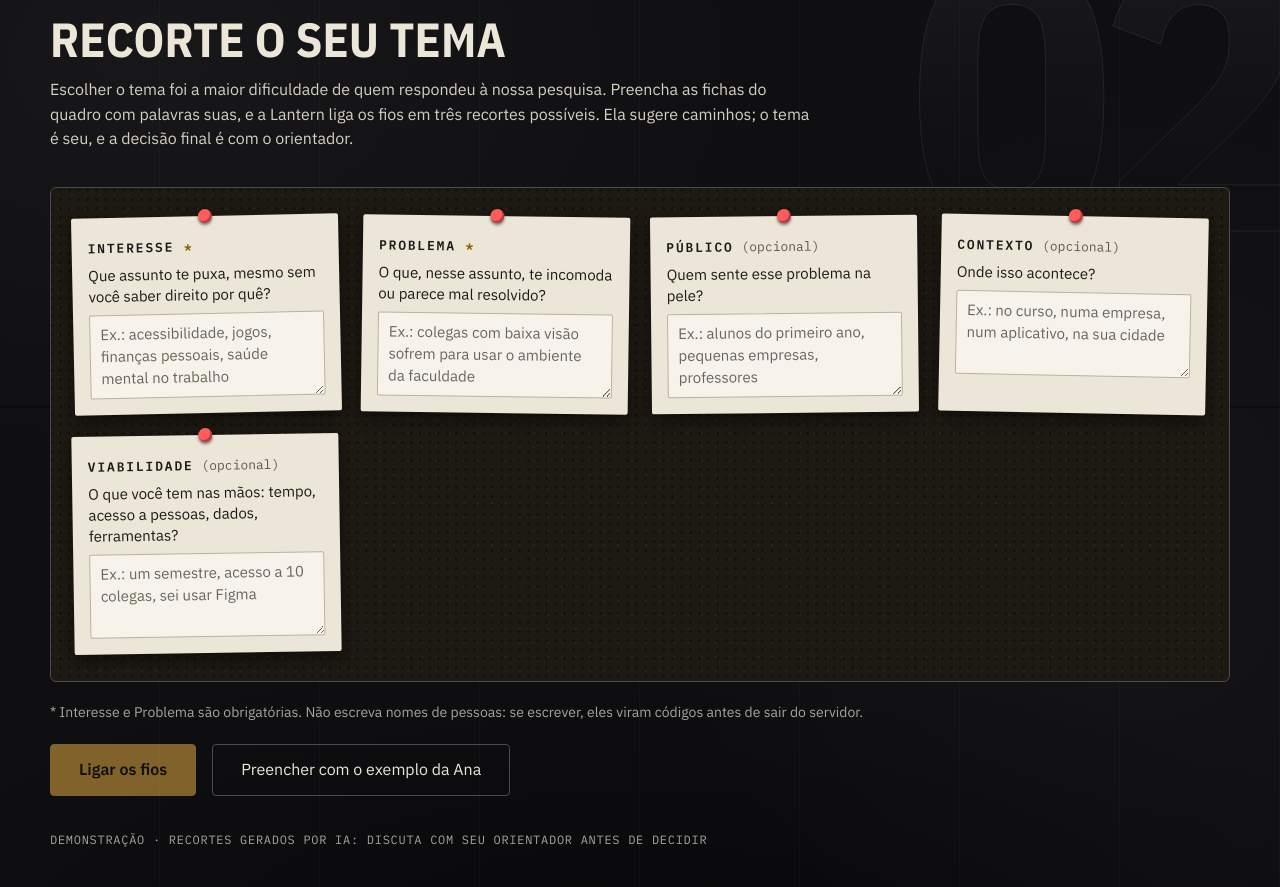
Test: Sala de Recorte › erro da IA vira alerta e as fichas continuam preenchidas
The image size is (1280, 887).
(page scrolled)
Step 1. Click the button "Preencher com o exemplo da Ana" → (361, 770), box [212,744,510,796]
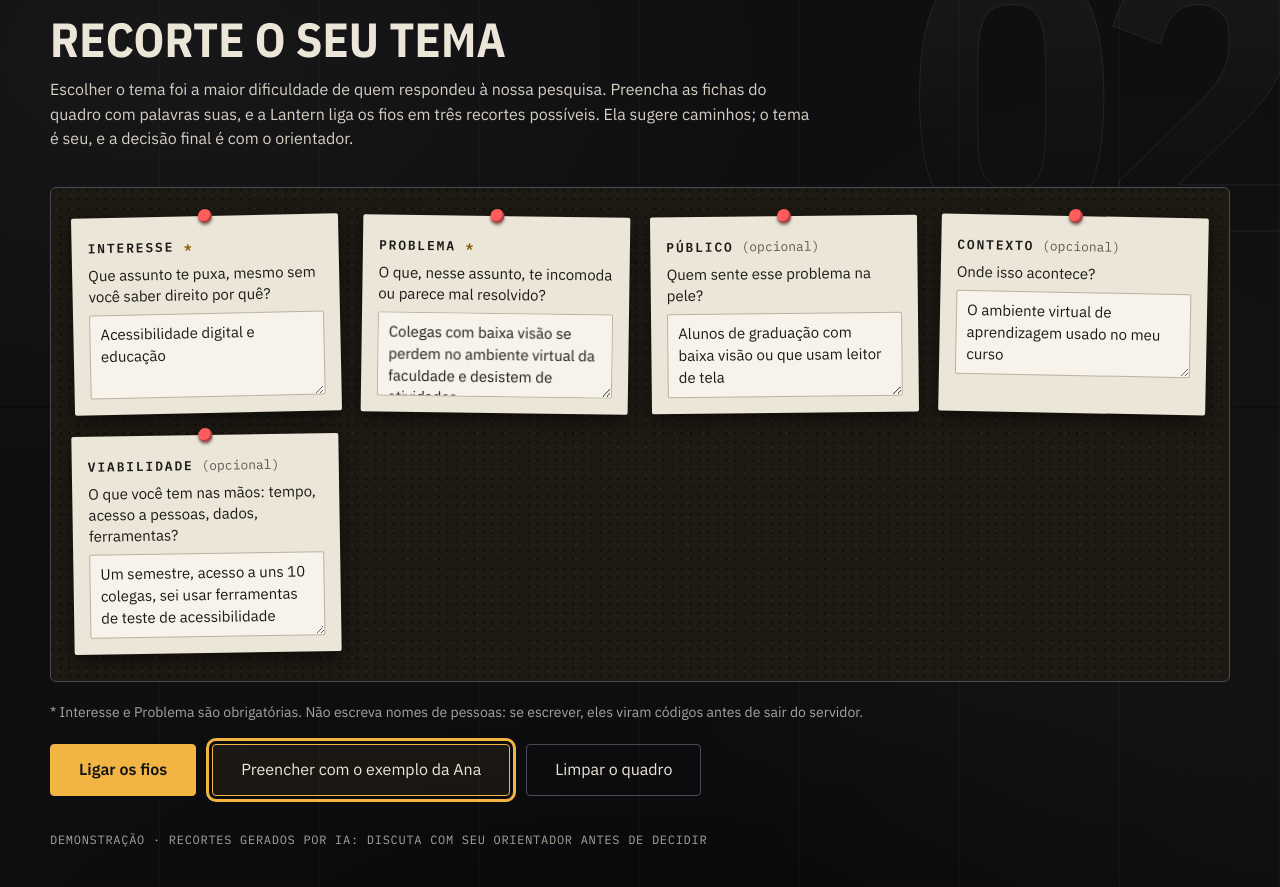
Step 2. Click the button "Ligar os fios" → (123, 770), box [50,744,196,796]
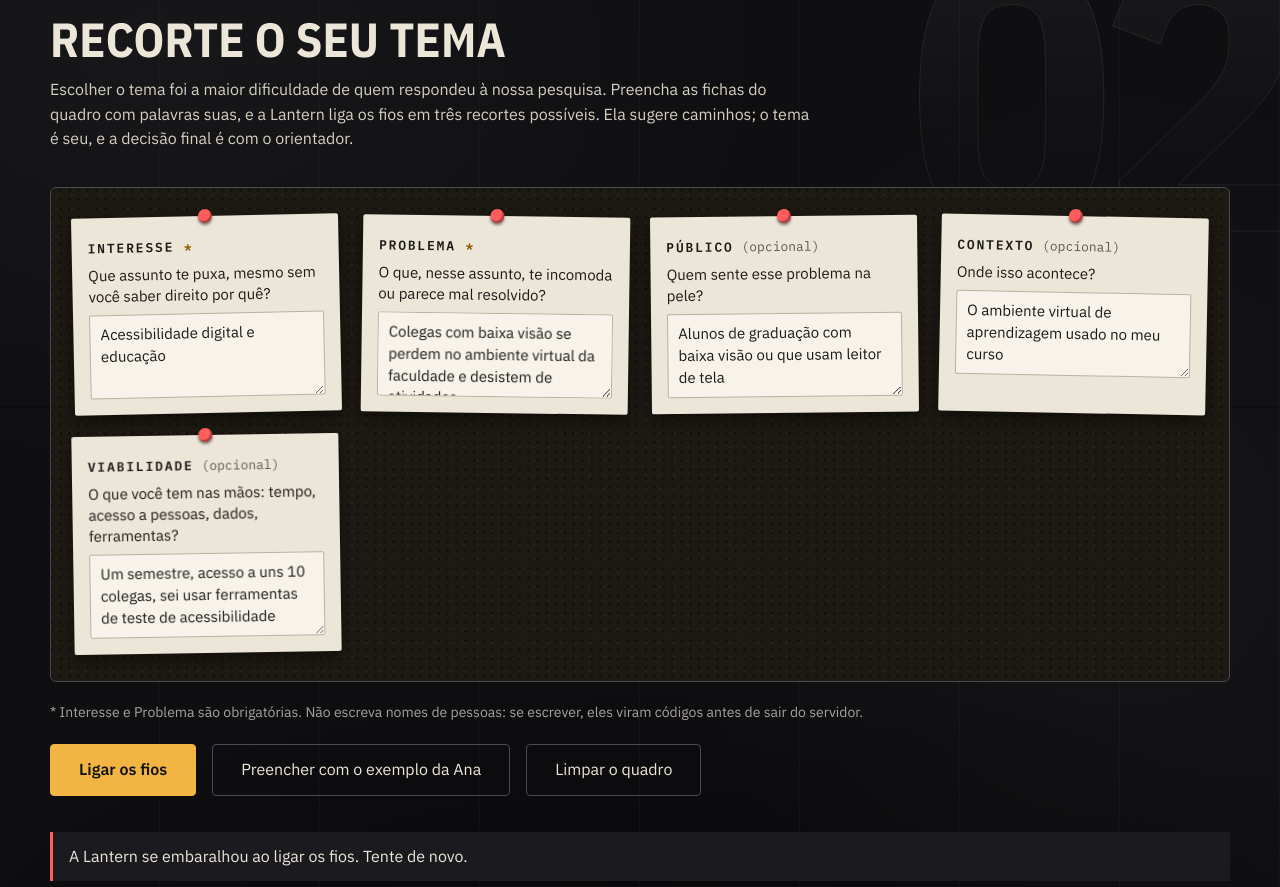
Result: the text box labelled "Interesse *" holds "Acessibilidade digital e educação" at [89,311,326,400]
Result: the message shows "embaralhou" at [69,846,468,866]
